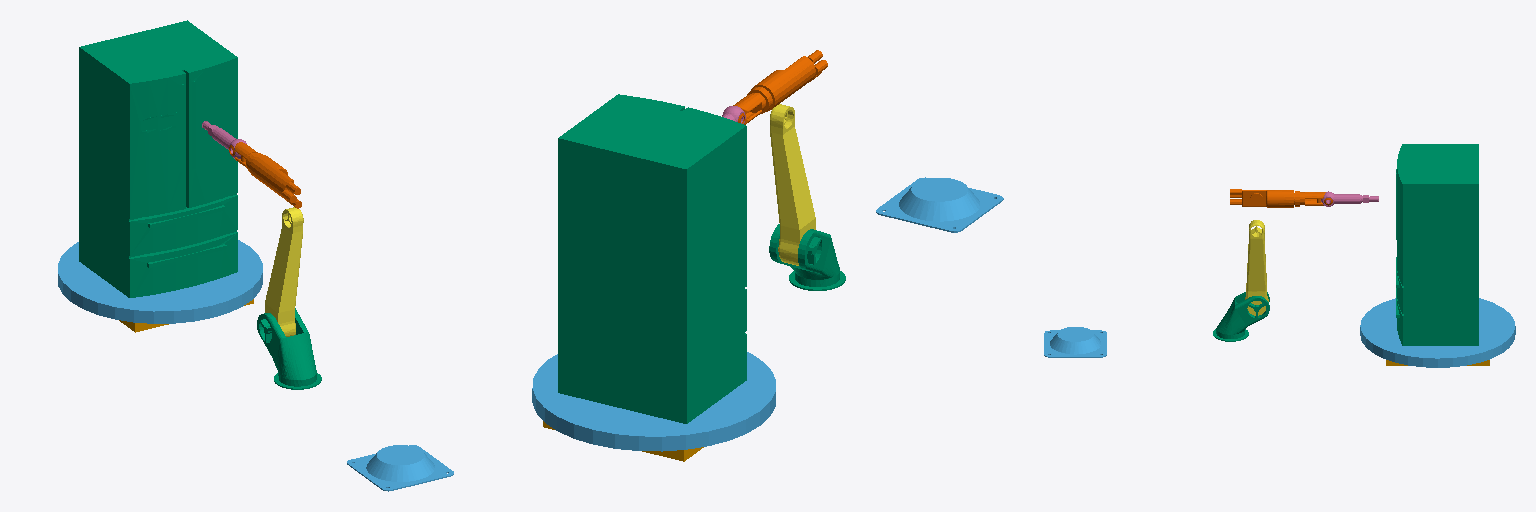
URDF robot description (demo):
<?xml version="1.0" encoding="UTF-8"?>
<robot name="demo">

<!-- world link -->
<link name="world"/>

<!-- base_link and its fixed joint -->
<joint name="joint_fix" type="fixed">
  <parent link="world"/>
  <child link="base_link"/>
</joint>

  <link name="base_link">
    <inertial>
      <origin
        xyz="5.43344915757781E-09 0.0443960955613356 1.50000017287721"
        rpy="0 0 0" />
      <mass
        value="0.1" />
      <inertia
        ixx="0"
        ixy="0"
        ixz="0"
        iyy="0"
        iyz="0"
        izz="0" />
    </inertial>
    <visual>
      <origin
        xyz="0 0 0"
        rpy="0 0 0" />
      <geometry>
        <mesh
          filename="package://demo_test/meshes/base_link.STL" />
      </geometry>
    </visual>
  </link>

  <link name="link1">
    <inertial>
      <origin
        xyz="1.68454688663544E-07 0.164275740780367 -0.0669943121573495"
        rpy="0 0 0" />
      <mass
        value="0.1" />
      <inertia
        ixx="0"
        ixy="0"
        ixz="0"
        iyy="0"
        iyz="0"
        izz="0" />
    </inertial>
    <visual>
      <origin
        xyz="0 0 0"
        rpy="0 0 0" />
      <geometry>
        <mesh
          filename="package://demo_test/meshes/link1.STL" />
      </geometry>
    </visual>
  </link>

  <joint name="joint1" type="revolute">
    <origin
      xyz="0 0 0.11"
      rpy="1.5707963267949 0 0" />
    <parent
      link="base_link" />
    <child
      link="link1" />
    <axis
      xyz="0 1 0" />
    <joint_properties damping="30.0" friction="20.0"/>  
    <limit effort="100" velocity="100" lower="-3.1416" upper="3.1416"/>
  </joint>

  <link
    name="link2">
    <inertial>
      <origin
        xyz="0.0328337392440224 0.307142712467886 3.15303338993544E-14"
        rpy="0 0 0" />
      <mass
        value="5" />
      <inertia
        ixx="0"
        ixy="0"
        ixz="0"
        iyy="0"
        iyz="0"
        izz="0" />
    </inertial>
    <visual>
      <origin
        xyz="0 0 0"
        rpy="0 0 0" />
      <geometry>
        <mesh
          filename="package://demo_test/meshes/link2.STL" />
      </geometry>
    </visual>
  </link>

  <joint
    name="joint2"
    type="revolute">
    <origin
      xyz="0 0.322732802998902 -0.250383739680009"
      rpy="0 0 0" />
    <parent
      link="link1" />
    <child
      link="link2" />
    <axis
      xyz="1 0 0" />
      <joint_properties damping="200.0" friction="150.0"/> 
    <limit effort="100" velocity="100" lower="-3.1416" upper="3.1416"/>
  </joint>

  <link name="link3">
    <inertial>
      <origin
        xyz="0.0261839079462923 2.09127868133763E-05 -0.185012067507171"
        rpy="0 0 0" />
      <mass
        value="0.1" />
      <inertia
        ixx="0"
        ixy="0"
        ixz="0"
        iyy="0"
        iyz="0"
        izz="0" />
    </inertial>
    <visual>
      <origin
        xyz="0 0 0"
        rpy="0 0 0" />
      <geometry>
        <mesh
          filename="package://demo_test/meshes/link3.STL" />
      </geometry>
      <material
        name="">
        <color
          rgba="0.909803921568627 0.443137254901961 0.0313725490196078 1" />
      </material>
    </visual>
  </link>

  <joint
    name="joint3"
    type="revolute">
    <origin
      xyz="0 1.13860941000177 0"
      rpy="0 0 0" />
    <parent
      link="link2" />
    <child
      link="link3" />
    <axis
      xyz="1 0 0" />
      <joint_properties damping="20.0" friction="15.0"/> 
    <limit effort="100" velocity="100" lower="-3.1416" upper="3.1416"/>
  </joint>

  <link
    name="link5">
    <inertial>
      <origin
        xyz="0 0 0"
        rpy="0 0 0" />
      <mass
        value="0.01" />
      <inertia
        ixx="0"
        ixy="0"
        ixz="0"
        iyy="0"
        iyz="0"
        izz="0" />
    </inertial>
    <visual>
      <origin
        xyz="0 0 0"
        rpy="0 0 0" />
      <geometry>
        <mesh
          filename="package://demo_test/meshes/link5.STL" />
      </geometry>
    </visual>
  </link>

  <joint
    name="joint4"
    type="revolute">
    <origin
      xyz="0.0483407685108505 0 -0.693420367397096"
      rpy="0 0 0" />
    <parent
      link="link3" />
    <child
      link="link5" />
    <axis
      xyz="0 1 0" />
      <joint_properties damping="20.0" friction="15.0"/> 
    <limit effort="100" velocity="100" lower="-3.1416" upper="3.1416"/>
  </joint>

  <link
    name="link4">
    <inertial>
      <origin
        xyz="0 -1.38777878078145E-17 -0.143700987107576"
        rpy="0 0 0" />
      <mass
        value="0.001" />
      <inertia
        ixx="0"
        ixy="0"
        ixz="0"
        iyy="0"
        iyz="0"
        izz="0" />
    </inertial>
    <visual>
      <origin
        xyz="0 0 0"
        rpy="0 0 0" />
      <geometry>
        <mesh
          filename="package://demo_test/meshes/link4.STL" />
      </geometry>
    </visual>
  </link>

  <joint
    name="joint5"
    type="revolute">
    <origin
      xyz="0 0 0"
      rpy="0 0 0" />
    <parent
      link="link5" />
    <child
      link="link4" />
    <axis
      xyz="-1 0 0" />
      <joint_properties damping="20.0" friction="15.0"/> 
    <limit effort="100" velocity="100" lower="-3.1416" upper="3.1416"/>
  </joint>

  <link name="camera">
    <inertial>
      <origin
        xyz="0 2.22044604925031E-16 -0.0681881207360688"
        rpy="0 0 0" />
      <mass
        value="0.001" />
      <inertia
        ixx="0"
        ixy="0"
        ixz="0"
        iyy="0"
        iyz="0"
        izz="0" />
    </inertial>
    <visual>
      <origin
        xyz="0 0 0"
        rpy="0 0 0" />
      <geometry>
        <mesh
          filename="package://demo_test/meshes/camera.STL" />
      </geometry>
    </visual>
  </link>

  <joint
    name="joint6"
    type="revolute">
    <origin
      xyz="0 0 -0.18"
      rpy="0 0 0" />
    <parent
      link="link4" />
    <child
      link="camera" />
    <axis
      xyz="0 0 0" />
    <limit effort="100" velocity="100" lower="-3.1416" upper="3.1416"/>
  </joint>

<!-- base_link and its fixed joint -->
<joint name="joint_fix_p" type="fixed">
  <parent link="world"/>
  <child link="base_link_p"/>
</joint>

<link name="base_link_p">
  <collision>
    <origin xyz="0 2.0 0.05" rpy="0 0 0"/>
    <geometry>
      <box size="1 1 0.1"/>
    </geometry>
  </collision>

  <visual>
    <origin xyz="0 2.0 0.05" rpy="0 0 0"/>
    <geometry>
      <box size="1 1 0.1"/>
    </geometry>
  </visual>

  <inertial>
    <origin xyz="0 2.0 0.5" rpy="0 0 0"/>
    <mass value="1"/>
    <inertia
      ixx="1.0" ixy="0.0" ixz="0.0"
      iyy="1.0" iyz="0.0"
      izz="1.0"/>
  </inertial>
</link>

<!-- link1 and its revolute joint1 relative to base_link -->
<!-- rotating along z axis -->
<joint name="joint7" type="revolute">
  <parent link="base_link_p"/>
  <child link="link1_p"/>
  <origin xyz="0 2.0 0.15" rpy="0 0 0"/>
  <axis xyz="0 0 1"/>
  <limit effort="100" velocity="100" lower="-3.1416" upper="3.1416"/>
</joint>

<link name="link1_p">
  <collision>
    <origin xyz="0 0 0" rpy="0 0 0"/>
  <geometry>
    <cylinder length="0.1" radius="0.75"/>
  </geometry>
  </collision>

  <visual>
    <origin xyz="0 0 0" rpy="0 0 0"/>
  <geometry>
    <cylinder length="0.1" radius="0.75"/>
  </geometry>
  </visual>

  <inertial>
    <origin xyz="0 0 0.05" rpy="0 0 0"/>
    <mass value="1"/>
    <inertia
      ixx="1" ixy="0.0" ixz="0.0"
      iyy="1" iyz="0.0"
      izz="1"/>
  </inertial>
</link>

<gazebo reference="link1_p">
  <material>Gazebo/Grey</material>
</gazebo>

<joint name="joint_box" type="fixed">
  <parent link="link1_p"/>
  <child link="box"/>
</joint>

<link name="box">
  <collision>
    <origin xyz="0 0 0.3" rpy="0 0 0"/>
    <geometry>
      <mesh
          filename="package://demo_test/meshes/frig.STL" />
    </geometry>
  </collision>

  <visual>
    <origin xyz="0 0 0" rpy="1.5708 0 0"/>
    <geometry>
      <mesh
          filename="package://demo_test/meshes/frig.STL" />
    </geometry>
  </visual>

  <inertial>
    <origin xyz="0 0 0.05" rpy="0 0 0"/>
    <mass value="1"/>
    <inertia
      ixx="1" ixy="0.0" ixz="0.0"
      iyy="1" iyz="0.0"
      izz="1"/>
  </inertial>
</link>

  <gazebo reference="base_link">
    <material>Gazebo/Black</material>
  </gazebo>
  <gazebo reference="link1">
    <material>Gazebo/Orange</material>
  </gazebo>
  <gazebo reference="link2">
    <material>Gazebo/Orange</material>
  </gazebo>
  <gazebo reference="link3">
    <material>Gazebo/Orange</material>
  </gazebo>
  <gazebo reference="link4">
    <material>Gazebo/Red</material>
  </gazebo>
  <gazebo reference="camera">
    <material>Gazebo/Black</material>
  </gazebo>
  <gazebo reference="box">
    <material>Gazebo/Grey</material>
  </gazebo>

</robot>

--- Render facts (derived) ---
The picture shows the robot from 3 angles, left to right: view 1: azimuth 30°, elevation 25°; view 2: azimuth 150°, elevation 25°; view 3: azimuth 270°, elevation 25°; orthographic projection.
Robot: demo — 11 links, 10 joints (7 revolute, 3 fixed); root link world; default pose: every joint at zero.
Links seen in each view (by area): view 1: box, link1_p, base_link, link2, link1, link3; view 2: box, link1_p, link2, base_link, link1, link3; view 3: box, link1_p, base_link, link1, link3, link2.
Boxes of the visible links, bbox=[...] form: box: bbox=[79, 20, 237, 297]; link1_p: bbox=[58, 240, 262, 323]; base_link: bbox=[347, 445, 453, 491]; link2: bbox=[265, 207, 303, 336]; link1: bbox=[257, 308, 321, 389]; link3: bbox=[235, 142, 301, 208]; box: bbox=[558, 94, 746, 423]; link1_p: bbox=[532, 352, 775, 451]; link2: bbox=[770, 104, 815, 265]; base_link: bbox=[876, 177, 1003, 232]; link1: bbox=[769, 224, 845, 290]; link3: bbox=[733, 50, 827, 124]; box: bbox=[1396, 144, 1478, 345]; link1_p: bbox=[1360, 298, 1515, 367]; base_link: bbox=[1044, 327, 1106, 357]; link1: bbox=[1213, 292, 1269, 341]; link3: bbox=[1230, 189, 1325, 207]; link2: bbox=[1245, 220, 1268, 315].
Size in the robot's own frame: 1.5 by 4.55 by 1.93 metres.
8 mesh visuals loaded from 8 distinct referenced files (8 binary STL).